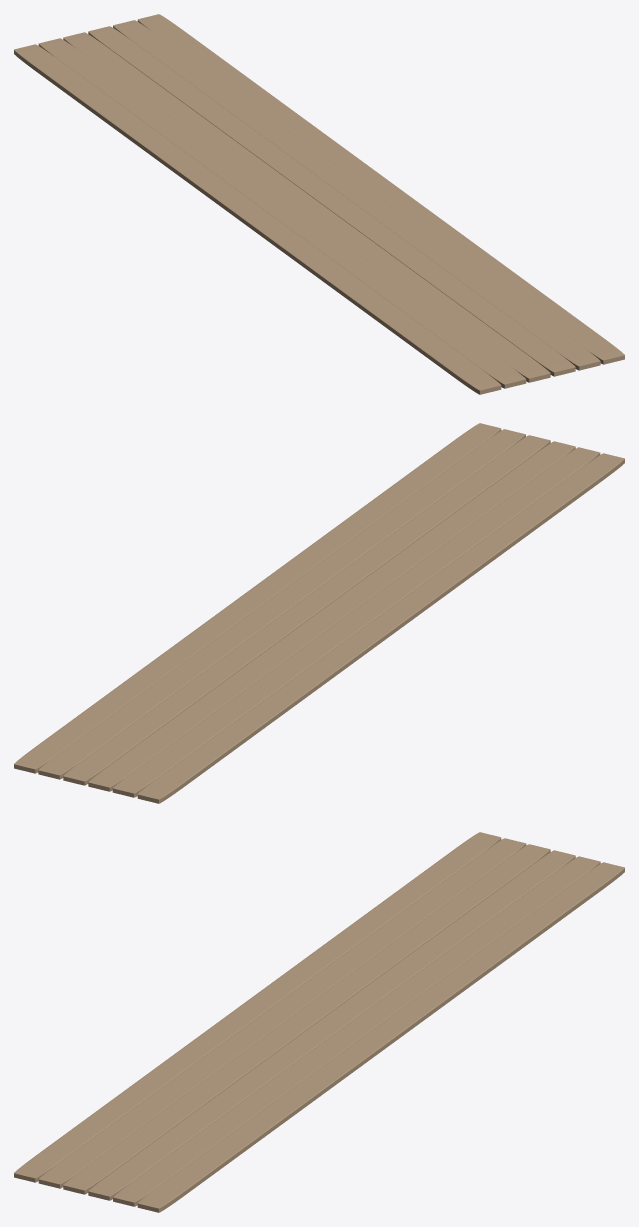
The model's file is Copy of bed room.glb.
The picture shows the model from 3 angles, top to bottom: view 1: azimuth 30°, elevation 25°; view 2: azimuth 150°, elevation 25°; view 3: azimuth 330°, elevation 25°; orthographic projection.
Parts seen in each view (by area): view 1: Mesh_Mesh_head_geo.001_lambert2SG.001; view 2: Mesh_Mesh_head_geo.001_lambert2SG.001; view 3: Mesh_Mesh_head_geo.001_lambert2SG.001.
Boxes of the visible parts, x1,y1,x2,y2 form: Mesh_Mesh_head_geo.001_lambert2SG.001: (14,14,624,394); Mesh_Mesh_head_geo.001_lambert2SG.001: (14,423,624,803); Mesh_Mesh_head_geo.001_lambert2SG.001: (14,832,624,1212).
Size of the model in its own units: 0.0331 by 0.001 by 0.1799.
